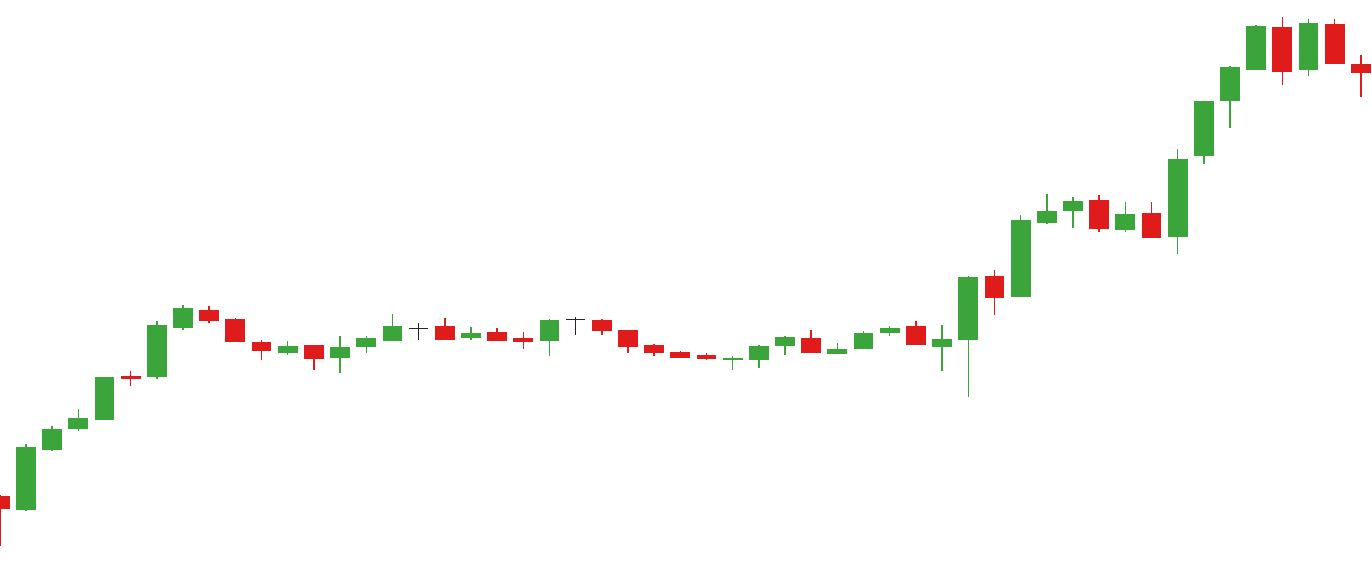buy: (746, 328, 956, 391)
